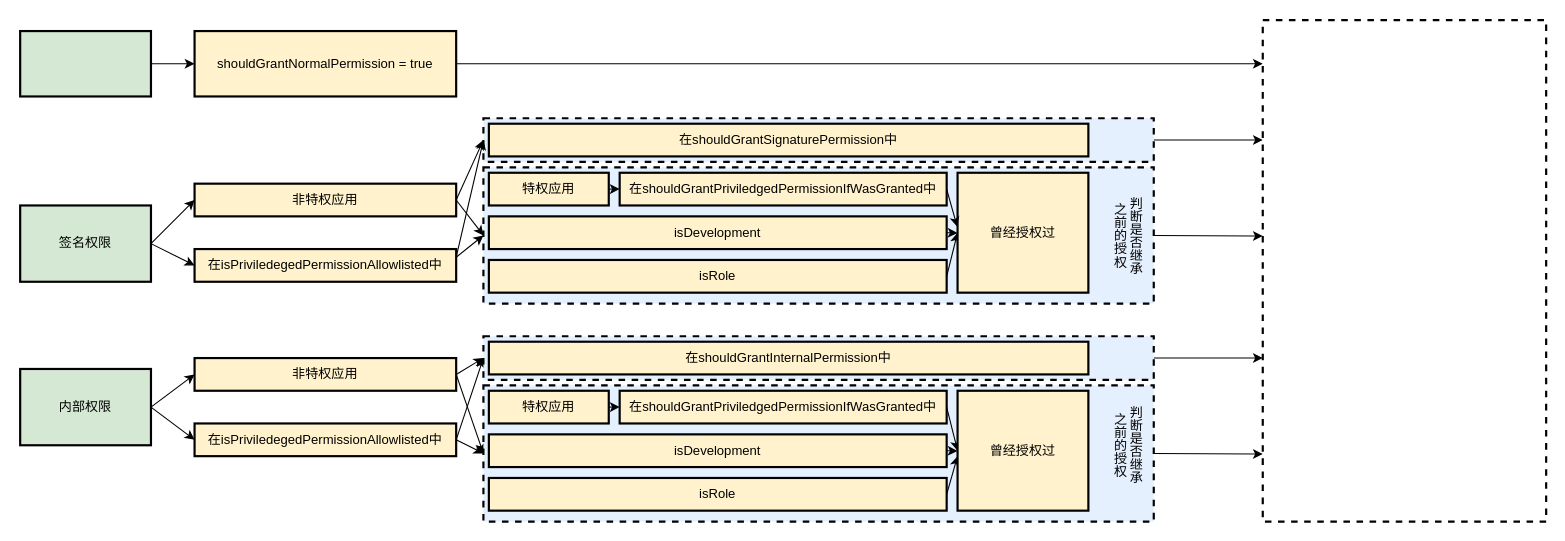
Some shapes in this 1565 by 541 pixel diagram are drawn without their labels. The centre of each missing label's shape, as x and y in pixels:
uidState.grantPermission: the point at 1404,270
普通权限: the point at 85,63
